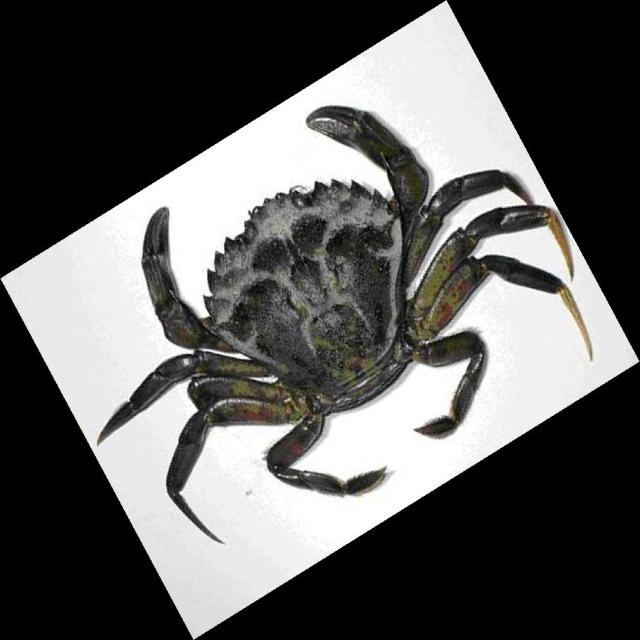European Green crab: (98, 106, 592, 543)
